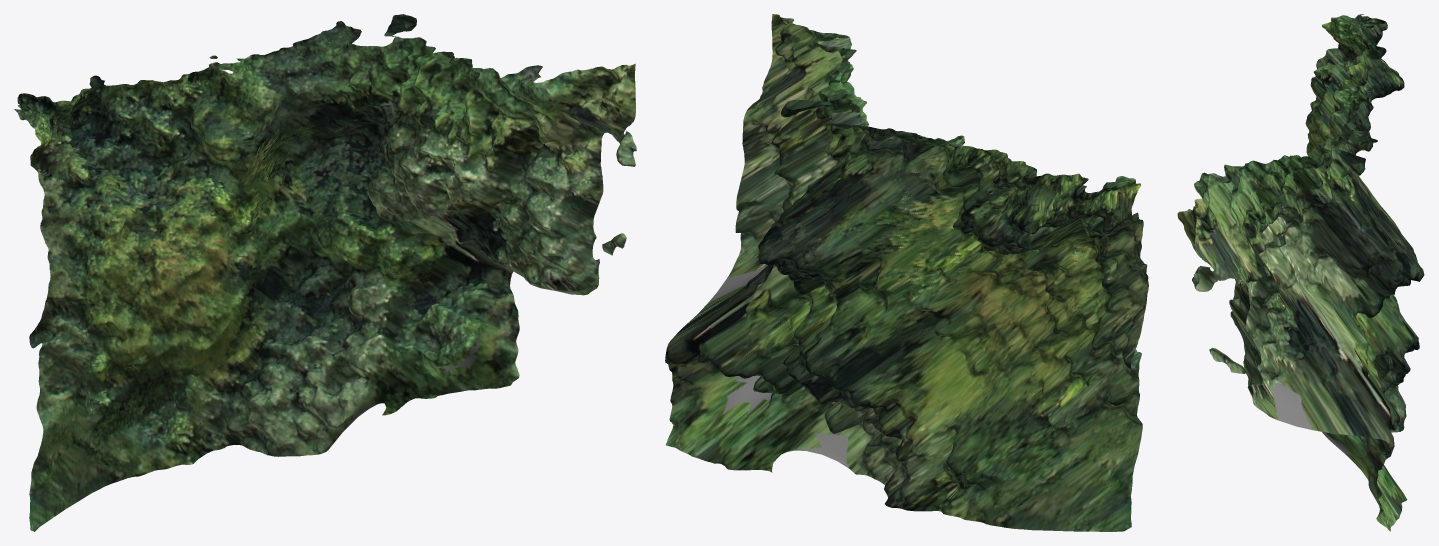
The model's file is Tile_+016_+000.fbx.
3 views of the same model, side by side, from view 1: azimuth 30°, elevation 25°; view 2: azimuth 150°, elevation 25°; view 3: azimuth 270°, elevation 25° (orthographic). The views are drawn at different scales.
Parts seen in each view (by area): view 1: DefaultName; view 2: DefaultName; view 3: DefaultName.
Part boxes in pixels (x1,y1,x2,y2): DefaultName: [14, 14, 636, 531]; DefaultName: [665, 14, 1148, 531]; DefaultName: [1177, 14, 1424, 531].
Size of the model in its own units: 22.54 by 17.37 by 12.05.
